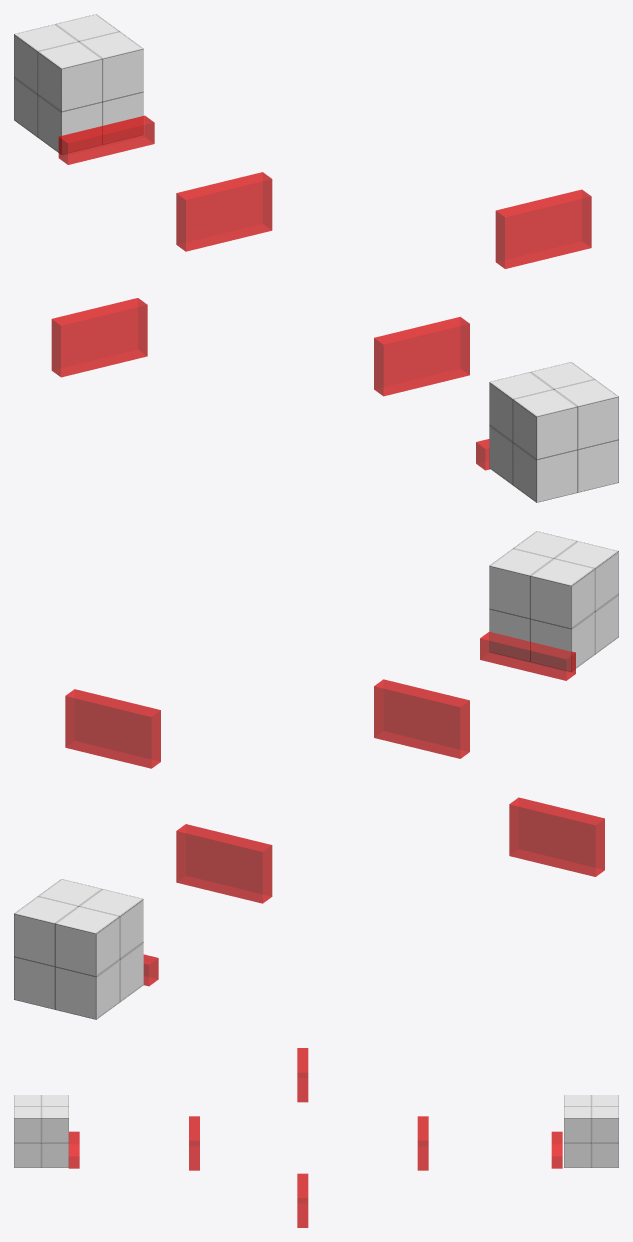
3 renders of one model, top to bottom at view 1: azimuth 30°, elevation 25°; view 2: azimuth 150°, elevation 25°; view 3: azimuth 270°, elevation 25°, orthographic. The views are drawn at different scales.
Parts seen in each view (by area): view 1: Plane/BasicEnvironment/StartCube-1, Plane/BasicEnvironment/StartCube-2, Plane/Setting2/BlockingCube, Plane/Setting2/gCube (2)ube (2), Plane/Setting2/BlockingCube (1), Plane/Setting2/BlockingCube (3), Plane/Setting2/StartBlocker-1; view 2: Plane/BasicEnvironment/StartCube-2, Plane/BasicEnvironment/StartCube-1, Plane/Setting2/BlockingCube, Plane/Setting2/gCube (2)ube (2), Plane/Setting2/BlockingCube (1), Plane/Setting2/BlockingCube (3), Plane/Setting2/StartBlocker-2; view 3: Plane/BasicEnvironment/StartCube-1, Plane/BasicEnvironment/StartCube-2, Plane/Setting2/BlockingCube, Plane/Setting2/gCube (2)ube (2), Plane/Setting2/BlockingCube (1), Plane/Setting2/BlockingCube (3), Plane/Setting2/StartBlocker-1, Plane/Setting2/StartBlocker-2.
Boxes of the visible parts, x1,y1,x2,y2 form: Plane/BasicEnvironment/StartCube-1: [489, 362, 618, 502]; Plane/BasicEnvironment/StartCube-2: [14, 14, 143, 154]; Plane/Setting2/BlockingCube: [176, 172, 272, 251]; Plane/Setting2/gCube (2)ube (2): [51, 298, 147, 377]; Plane/Setting2/BlockingCube (1): [495, 189, 591, 268]; Plane/Setting2/BlockingCube (3): [374, 316, 469, 396]; Plane/Setting2/StartBlocker-1: [58, 115, 154, 164]; Plane/BasicEnvironment/StartCube-2: [14, 879, 143, 1019]; Plane/BasicEnvironment/StartCube-1: [489, 531, 618, 671]; Plane/Setting2/BlockingCube: [176, 824, 272, 903]; Plane/Setting2/gCube (2)ube (2): [509, 797, 604, 876]; Plane/Setting2/BlockingCube (1): [65, 689, 160, 768]; Plane/Setting2/BlockingCube (3): [374, 679, 469, 758]; Plane/Setting2/StartBlocker-2: [480, 632, 575, 680]; Plane/BasicEnvironment/StartCube-1: [14, 1095, 68, 1167]; Plane/BasicEnvironment/StartCube-2: [564, 1095, 618, 1167]; Plane/Setting2/BlockingCube: [417, 1116, 428, 1170]; Plane/Setting2/gCube (2)ube (2): [297, 1048, 308, 1102]; Plane/Setting2/BlockingCube (1): [297, 1173, 308, 1227]; Plane/Setting2/BlockingCube (3): [189, 1116, 199, 1170]; Plane/Setting2/StartBlocker-1: [551, 1131, 562, 1168]; Plane/Setting2/StartBlocker-2: [68, 1131, 79, 1168].
Bounding box in the file's own units: 1.29 × 0.2085 × 2.2.
